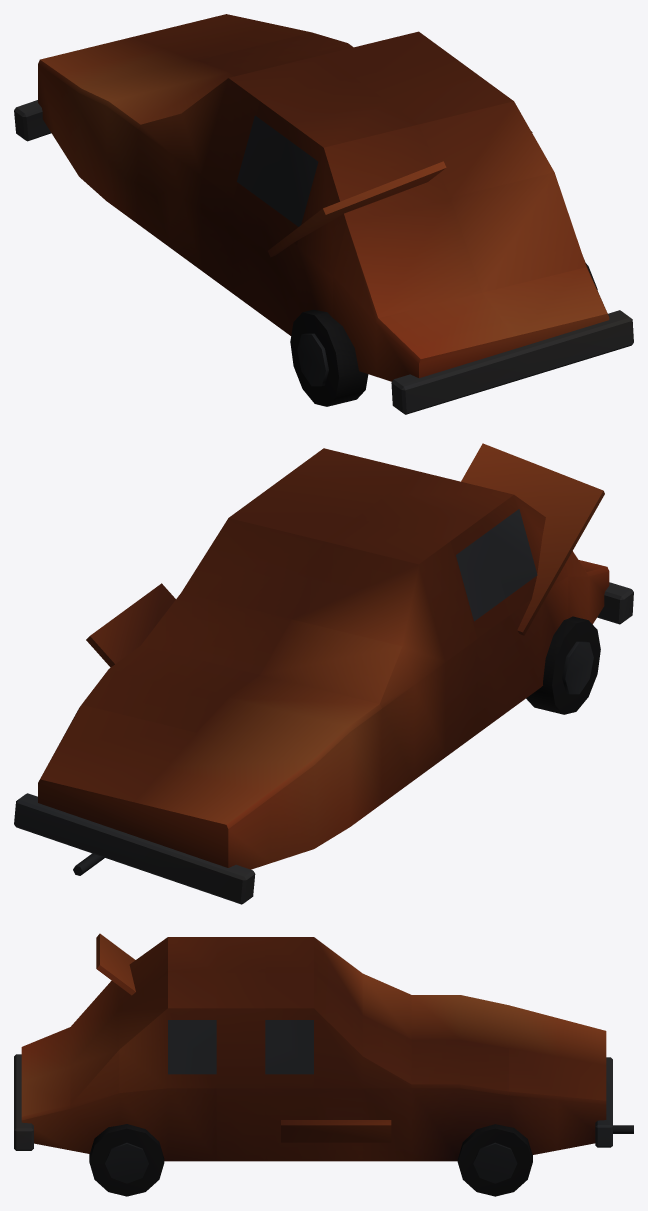
The model's file is wreck_pickup.glb.
3 views of the same model, one above another, from view 1: azimuth 30°, elevation 25°; view 2: azimuth 150°, elevation 25°; view 3: azimuth 270°, elevation 25° (orthographic). The views are drawn at different scales.
Parts seen in each view (by area): view 1: rust, metal_dark, rubber; view 2: rust, metal_dark, rubber; view 3: rust, metal_dark, rubber.
Boxes of the visible parts, x1,y1,x2,y2 form: rust: (38, 14, 609, 381); metal_dark: (14, 100, 633, 414); rubber: (290, 263, 597, 406); rust: (38, 443, 609, 869); metal_dark: (14, 509, 633, 904); rubber: (526, 616, 600, 714); rust: (21, 933, 606, 1161); metal_dark: (14, 1020, 633, 1183); rubber: (89, 1124, 532, 1196).
Size of what is drawn, in the model's own units: 2.63 by 1.75 by 5.62.
